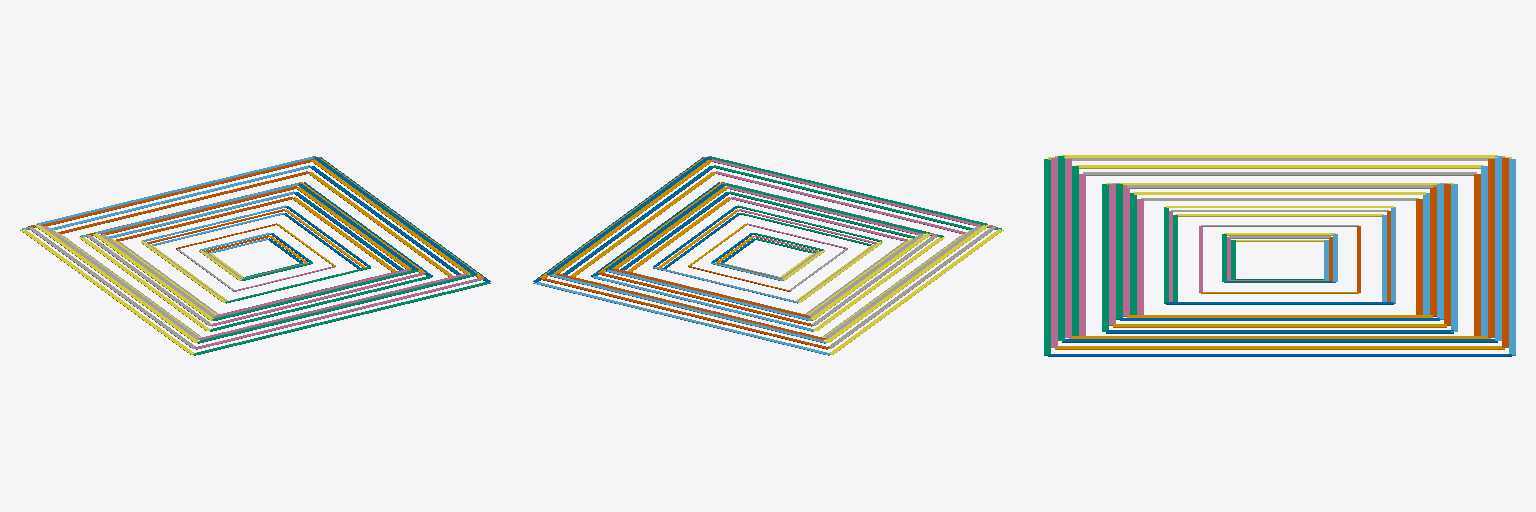
--- What the picture shows (computed from the rendered views, not written in the file) ---
The picture shows the robot from 3 angles, left to right: view 1: azimuth 30°, elevation 25°; view 2: azimuth 150°, elevation 25°; view 3: azimuth 270°, elevation 25°; orthographic projection.
Robot: plane — 77 links, 76 joints (76 fixed); root link planeLink; default pose: every joint at zero.
Visible links, largest first — view 1: box_stair_descend3_bottom, box_stair_descend2_bottom, box_stair_descend1_bottom, box_stair_descend3_left, box_stair6_top, box_stair_descend2_left, box_stair_descend1_left, box_stair5_top, box_stair6_right, box_stair4_top, box_stair5_right, box_stair_descend1_right (+13 smaller); view 2: box_stair_descend3_top, box_stair_descend2_top, box_stair_descend1_top, box_stair_descend3_left, box_stair6_bottom, box_stair_descend2_left, box_stair_descend1_left, box_stair5_bottom, box_stair6_right, box_stair4_bottom, box_stair5_right, box_stair_descend1_right (+13 smaller); view 3: box_stair_descend2_right, box_stair_descend1_right, box_stair5_left, box_stair4_left, box_stair_descend3_right, box_down3_right, box_stair_descend3_top, box_stair_descend3_bottom, box_down2_right, box_stair_descend2_top, box_stair_descend2_bottom, box_stair_descend1_left (+28 smaller).
Link boxes in pixels (box(x1,y1,x2,y2)): box_stair_descend3_bottom: box(193, 282, 490, 355); box_stair_descend2_bottom: box(194, 278, 483, 349); box_stair_descend1_bottom: box(197, 274, 476, 343); box_stair_descend3_left: box(20, 229, 194, 354); box_stair6_top: box(43, 159, 311, 225); box_stair_descend2_left: box(28, 227, 195, 348); box_stair_descend1_left: box(34, 225, 198, 342); box_stair5_top: box(51, 165, 311, 229); box_stair6_right: box(311, 160, 470, 273); box_stair4_top: box(58, 171, 309, 233); box_stair5_right: box(309, 166, 460, 274); box_stair_descend1_right: box(313, 157, 476, 274); box_stair_descend3_top: box(533, 282, 830, 355); box_stair_descend2_top: box(540, 278, 829, 349); box_stair_descend1_top: box(547, 274, 826, 343); box_stair_descend3_left: box(830, 229, 1003, 354); box_stair6_bottom: box(712, 159, 980, 225); box_stair_descend2_left: box(828, 227, 995, 348); box_stair_descend1_left: box(825, 225, 989, 342); box_stair5_bottom: box(713, 165, 972, 229); box_stair6_right: box(553, 160, 712, 273); box_stair4_bottom: box(714, 171, 965, 233); box_stair5_right: box(563, 166, 713, 274); box_stair_descend1_right: box(547, 157, 710, 274); box_stair_descend2_right: box(1055, 346, 1504, 349); box_stair_descend1_right: box(1062, 339, 1497, 342); box_stair5_left: box(1076, 165, 1483, 168); box_stair4_left: box(1083, 172, 1476, 175); box_stair_descend3_right: box(1048, 354, 1511, 356); box_down3_right: box(1106, 330, 1453, 333); box_stair_descend3_top: box(1509, 159, 1515, 355); box_stair_descend3_bottom: box(1044, 159, 1050, 355); box_down2_right: box(1113, 324, 1446, 327); box_stair_descend2_top: box(1502, 158, 1508, 347); box_stair_descend2_bottom: box(1051, 158, 1057, 347); box_stair_descend1_left: box(1062, 155, 1497, 157).
Bounding box of the posed robot: 20.3 × 20.3 × 0.58 m (x, y, z).
Meshes: 1 distinct files referenced, 0 mesh visuals loaded (none loaded); not drawn: 1 (reference not matched to a file when rendering).

The robot description file, URDF, robot "plane":
<?xml version="1.0" ?>
<robot name="plane">

  <!-- Base plane -->
  <link name="planeLink">
  <contact>
      <lateral_friction value="0.01"/>
  </contact>
    <inertial>
      <origin rpy="0 0 0" xyz="0 0 -0.1"/>
       <mass value="1.0"/>
       <inertia ixx="1.0" ixy="0" ixz="0" iyy="1.0" iyz="0" izz="1.0"/>
    </inertial>
    <visual>
      <origin rpy="0 0 0" xyz="0 0 -0.1"/>
      <geometry>
				<mesh filename="plane100_light.obj" scale="1 1 1"/>
      </geometry>
       <material name="white">
        <color rgba="1 1 1 1"/>
      </material>
    </visual>
    <collision>
      <origin rpy="0 0 0" xyz="0 0 -5"/>
      <geometry>
	 	<box size="200 200 10"/>
      </geometry>
    </collision>
  </link>
  <!-- Inner Rectangle (2m) -->
  <link name="box_inner1_top">
    <visual><origin xyz="0 2.0 0.035"/><geometry><box size="4.0 0.2 0.03"/></geometry></visual>
    <collision><origin xyz="0 2.0 0.035"/><geometry><box size="4.0 0.2 0.03"/></geometry></collision>
  </link>
  <joint name="joint_inner1_top" type="fixed"><parent link="planeLink"/><child link="box_inner1_top"/><origin xyz="0 0 0"/></joint>

  <link name="box_inner1_bottom">
    <visual><origin xyz="0 -2.0 0.035"/><geometry><box size="4.0 0.2 0.03"/></geometry></visual>
    <collision><origin xyz="0 -2.0 0.035"/><geometry><box size="4.0 0.2 0.03"/></geometry></collision>
  </link>
  <joint name="joint_inner1_bottom" type="fixed"><parent link="planeLink"/><child link="box_inner1_bottom"/><origin xyz="0 0 0"/></joint>

  <link name="box_inner1_left">
    <visual><origin xyz="-2.0 0 0.035"/><geometry><box size="0.2 4.0 0.03"/></geometry></visual>
    <collision><origin xyz="-2.0 0 0.035"/><geometry><box size="0.2 4.0 0.03"/></geometry></collision>
  </link>
  <joint name="joint_inner1_left" type="fixed"><parent link="planeLink"/><child link="box_inner1_left"/><origin xyz="0 0 0"/></joint>

  <link name="box_inner1_right">
    <visual><origin xyz="2.0 0 0.035"/><geometry><box size="0.2 4.0 0.03"/></geometry></visual>
    <collision><origin xyz="2.0 0 0.035"/><geometry><box size="0.2 4.0 0.03"/></geometry></collision>
  </link>
  <joint name="joint_inner1_right" type="fixed"><parent link="planeLink"/><child link="box_inner1_right"/><origin xyz="0 0 0"/></joint>



  <link name="box_inner2_top">
    <visual><origin xyz="0 2.2 0.085"/><geometry><box size="4.4 0.20 0.03"/></geometry></visual>
    <collision><origin xyz="0 2.2 0.03"/><geometry><box size="4.4 0.20 0.03"/></geometry></collision>
  </link>
  <joint name="joint_inner2_top" type="fixed"><parent link="planeLink"/><child link="box_inner2_top"/><origin xyz="0 0 0"/></joint>

  <link name="box_inner2_bottom">
    <visual><origin xyz="0 -2.2 0.085"/><geometry><box size="4.4 0.20 0.03"/></geometry></visual>
    <collision><origin xyz="0 -2.2 0.085"/><geometry><box size="4.4 0.20 0.03"/></geometry></collision>
  </link>
  <joint name="joint_inner2_bottom" type="fixed"><parent link="planeLink"/><child link="box_inner2_bottom"/><origin xyz="0 0 0"/></joint>

  <link name="box_inner2_left">
    <visual><origin xyz="-2.2 0 0.085"/><geometry><box size="0.20 4.4 0.03"/></geometry></visual>
    <collision><origin xyz="-2.2 0 0.085"/><geometry><box size="0.20 4.4 0.03"/></geometry></collision>
  </link>
  <joint name="joint_inner2_left" type="fixed"><parent link="planeLink"/><child link="box_inner2_left"/><origin xyz="0 0 0"/></joint>

  <link name="box_inner2_right">
    <visual><origin xyz="2.2 0 0.085"/><geometry><box size="0.20 4.4 0.03"/></geometry></visual>
    <collision><origin xyz="2.2 0 0.085"/><geometry><box size="0.20 4.4 0.03"/></geometry></collision>
  </link>
  <joint name="joint_inner2_right" type="fixed"><parent link="planeLink"/><child link="box_inner2_right"/><origin xyz="0 0 0"/></joint>



  <link name="box_inner3_top">
    <visual><origin xyz="0 2.4 0.135"/><geometry><box size="4.8 0.20 0.03"/></geometry></visual>
    <collision><origin xyz="0 2.4 0.135"/><geometry><box size="4.8 0.20 0.03"/></geometry></collision>
  </link>
  <joint name="joint_inner3_top" type="fixed"><parent link="planeLink"/><child link="box_inner3_top"/><origin xyz="0 0 0"/></joint>

  <link name="box_inner3_bottom">
    <visual><origin xyz="0 -2.4 0.135"/><geometry><box size="4.8 0.20 0.03"/></geometry></visual>
    <collision><origin xyz="0 -2.4 0.135"/><geometry><box size="4.8 0.20 0.03"/></geometry></collision>
  </link>
  <joint name="joint_inner3_bottom" type="fixed"><parent link="planeLink"/><child link="box_inner3_bottom"/><origin xyz="0 0 0"/></joint>

  <link name="box_inner3_left">
    <visual><origin xyz="-2.4 0 0.135"/><geometry><box size="0.20 4.8 0.03"/></geometry></visual>
    <collision><origin xyz="-2.4 0 0.135"/><geometry><box size="0.20 4.8 0.03"/></geometry></collision>
  </link>
  <joint name="joint_inner3_left" type="fixed"><parent link="planeLink"/><child link="box_inner3_left"/><origin xyz="0 0 0"/></joint>

  <link name="box_inner3_right">
    <visual><origin xyz="2.4 0 0.135"/><geometry><box size="0.20 4.8 0.03"/></geometry></visual>
    <collision><origin xyz="2.4 0 0.135"/><geometry><box size="0.20 4.8 0.03"/></geometry></collision>
  </link>
  <joint name="joint_inner3_right" type="fixed"><parent link="planeLink"/><child link="box_inner3_right"/><origin xyz="0 0 0"/></joint>



  <link name="box_top">
    <visual><origin xyz="0 3.4 0.085"/><geometry><box size="6.8 0.15 0.03"/></geometry></visual>
    <collision><origin xyz="0 3.4 0.085"/><geometry><box size="6.8 0.15 0.03"/></geometry></collision>
  </link>
  <joint name="joint_top" type="fixed"><parent link="planeLink"/><child link="box_top"/><origin xyz="0 0 0"/></joint>

  <link name="box_bottom">
    <visual><origin xyz="0 -3.4 0.085"/><geometry><box size="6.8 0.15 0.03"/></geometry></visual>
    <collision><origin xyz="0 -3.4 0.085"/><geometry><box size="6.8 0.15 0.03"/></geometry></collision>
  </link>
  <joint name="joint_bottom" type="fixed"><parent link="planeLink"/><child link="box_bottom"/><origin xyz="0 0 0"/></joint>

  <link name="box_left">
    <visual><origin xyz="-3.4 0 0.085"/><geometry><box size="0.15 6.8 0.03"/></geometry></visual>
    <collision><origin xyz="-3.4 0 0.085"/><geometry><box size="0.15 6.8 0.03"/></geometry></collision>
  </link>
  <joint name="joint_left" type="fixed"><parent link="planeLink"/><child link="box_left"/><origin xyz="0 0 0"/></joint>

  <link name="box_right">
    <visual><origin xyz="3.4 0 0.085"/><geometry><box size="0.15 6.8 0.03"/></geometry></visual>
    <collision><origin xyz="3.4 0 0.085"/><geometry><box size="0.15 6.8 0.03"/></geometry></collision>
  </link>
  <joint name="joint_right" type="fixed"><parent link="planeLink"/><child link="box_right"/><origin xyz="0 0 0"/></joint>

  <!-- Outer Rectangle (4m, 1m away from inner) -->
  <!-- These are 10cm tall, so z = 0.05 and size.z = 0.10 -->

  <link name="box_outer1_top">
    <visual><origin xyz="0 4.5 0.085"/><geometry><box size="9.0 0.2 0.03"/></geometry></visual>
    <collision><origin xyz="0 4.5 0.085"/><geometry><box size="9.0 0.2 0.03"/></geometry></collision>
  </link>
  <joint name="joint_outer1_top" type="fixed"><parent link="planeLink"/><child link="box_outer1_top"/><origin xyz="0 0 0"/></joint>

  <link name="box_outer1_bottom">
    <visual><origin xyz="0 -4.5 0.085"/><geometry><box size="9.0 0.2 0.03"/></geometry></visual>
    <collision><origin xyz="0 -4.5 0.085"/><geometry><box size="9.0 0.2 0.03"/></geometry></collision>
  </link>
  <joint name="joint_outer1_bottom" type="fixed"><parent link="planeLink"/><child link="box_outer1_bottom"/><origin xyz="0 0 0"/></joint>

  <link name="box_outer1_left">
    <visual><origin xyz="-4.5 0 0.085"/><geometry><box size="0.2 9.0 0.03"/></geometry></visual>
    <collision><origin xyz="-4.5 0 0.085"/><geometry><box size="0.2 9.0 0.03"/></geometry></collision>
  </link>
  <joint name="joint_outer1_left" type="fixed"><parent link="planeLink"/><child link="box_outer1_left"/><origin xyz="0 0 0"/></joint>

  <link name="box_outer1_right">
    <visual><origin xyz="4.5 0 0.085"/><geometry><box size="0.2 9.0 0.03"/></geometry></visual>
    <collision><origin xyz="4.5 0 0.085"/><geometry><box size="0.2 9.0 0.03"/></geometry></collision>
  </link>
  <joint name="joint_outer1_right" type="fixed"><parent link="planeLink"/><child link="box_outer1_right"/><origin xyz="0 0 0"/></joint>



  <link name="box_outer2_top">
    <visual><origin xyz="0 4.7 0.185"/><geometry><box size="9.4 0.2 0.03"/></geometry></visual>
    <collision><origin xyz="0 4.7 0.185"/><geometry><box size="9.4 0.2 0.03"/></geometry></collision>
  </link>
  <joint name="joint_outer2_top" type="fixed"><parent link="planeLink"/><child link="box_outer2_top"/><origin xyz="0 0 0"/></joint>

  <link name="box_outer2_bottom">
    <visual><origin xyz="0 -4.7 0.185"/><geometry><box size="9.4 0.2 0.03"/></geometry></visual>
    <collision><origin xyz="0 -4.7 0.185"/><geometry><box size="9.4 0.2 0.03"/></geometry></collision>
  </link>
  <joint name="joint_outer2_bottom" type="fixed"><parent link="planeLink"/><child link="box_outer2_bottom"/><origin xyz="0 0 0"/></joint>

  <link name="box_outer2_left">
    <visual><origin xyz="-4.7 0 0.185"/><geometry><box size="0.2 9.4 0.03"/></geometry></visual>
    <collision><origin xyz="-4.7 0 0.185"/><geometry><box size="0.2 9.4 0.03"/></geometry></collision>
  </link>
  <joint name="joint_outer2_left" type="fixed"><parent link="planeLink"/><child link="box_outer2_left"/><origin xyz="0 0 0"/></joint>

  <link name="box_outer2_right">
    <visual><origin xyz="4.7 0 0.185"/><geometry><box size="0.2 9.4 0.03"/></geometry></visual>
    <collision><origin xyz="4.7 0 0.185"/><geometry><box size="0.2 9.4 0.03"/></geometry></collision>
  </link>
  <joint name="joint_outer2_right" type="fixed"><parent link="planeLink"/><child link="box_outer2_right"/><origin xyz="0 0 0"/></joint>


  <link name="box_outer3_top">
    <visual><origin xyz="0 4.9 0.285"/><geometry><box size="9.8 0.2 0.03"/></geometry></visual>
    <collision><origin xyz="0 4.9 0.285"/><geometry><box size="9.8 0.2 0.03"/></geometry></collision>
  </link>
  <joint name="joint_outer3_top" type="fixed"><parent link="planeLink"/><child link="box_outer3_top"/><origin xyz="0 0 0"/></joint>

  <link name="box_outer3_bottom">
    <visual><origin xyz="0 -4.9 0.285"/><geometry><box size="9.8 0.2 0.03"/></geometry></visual>
    <collision><origin xyz="0 -4.9 0.285"/><geometry><box size="9.8 0.2 0.03"/></geometry></collision>
  </link>
  <joint name="joint_outer3_bottom" type="fixed"><parent link="planeLink"/><child link="box_outer3_bottom"/><origin xyz="0 0 0"/></joint>

  <link name="box_outer3_left">
    <visual><origin xyz="-4.9 0 0.285"/><geometry><box size="0.2 9.8 0.03"/></geometry></visual>
    <collision><origin xyz="-4.9 0 0.285"/><geometry><box size="0.2 9.8 0.03"/></geometry></collision>
  </link>
  <joint name="joint_outer3_left" type="fixed"><parent link="planeLink"/><child link="box_outer3_left"/><origin xyz="0 0 0"/></joint>

  <link name="box_outer3_right">
    <visual><origin xyz="4.9 0 0.285"/><geometry><box size="0.2 9.8 0.03"/></geometry></visual>
    <collision><origin xyz="4.9 0 0.285"/><geometry><box size="0.2 9.8 0.03"/></geometry></collision>
  </link>
  <joint name="joint_outer3_right" type="fixed"><parent link="planeLink"/><child link="box_outer3_right"/><origin xyz="0 0 0"/></joint>

 
  <link name="box_stair1_top">
    <visual><origin xyz="0 6.0 0.135"/><geometry><box size="12.0 0.3 0.03"/></geometry></visual>
    <collision><origin xyz="0 6.0 0.135"/><geometry><box size="12.0 0.3 0.03"/></geometry></collision>
  </link>
  <joint name="box_stair1_top" type="fixed"><parent link="planeLink"/><child link="box_stair1_top"/><origin xyz="0 0 0"/></joint>

  <link name="box_stair1_bottom">
    <visual><origin xyz="0 -6.0 0.135"/><geometry><box size="12.0 0.3 0.03"/></geometry></visual>
    <collision><origin xyz="0 -6.0 0.135"/><geometry><box size="12.0 0.3 0.03"/></geometry></collision>
  </link>
  <joint name="box_stair1_bottom" type="fixed"><parent link="planeLink"/><child link="box_stair1_bottom"/><origin xyz="0 0 0"/></joint>

  <link name="box_stair1_left">
    <visual><origin xyz="-6.0 0 0.135"/><geometry><box size="0.3 12.0 0.03"/></geometry></visual>
    <collision><origin xyz="-6.0 0 0.135"/><geometry><box size="0.3 12.0 0.03"/></geometry></collision>
  </link>
  <joint name="box_stair1_left" type="fixed"><parent link="planeLink"/><child link="box_stair1_left"/><origin xyz="0 0 0"/></joint>

  <link name="box_stair1_right">
    <visual><origin xyz="6.0 0 0.135"/><geometry><box size="0.3 12.0 0.03"/></geometry></visual>
    <collision><origin xyz="6.0 0 0.135"/><geometry><box size="0.3 12.0 0.03"/></geometry></collision>
  </link>
  <joint name="box_stair1_right" type="fixed"><parent link="planeLink"/><child link="box_stair1_right"/><origin xyz="0 0 0"/></joint>


  <link name="box_stair2_top">
    <visual><origin xyz="0 6.3 0.285"/><geometry><box size="12.6 0.3 0.03"/></geometry></visual>
    <collision><origin xyz="0 6.3 0.285"/><geometry><box size="12.6 0.3 0.03"/></geometry></collision>
  </link>
  <joint name="box_stair2_top" type="fixed"><parent link="planeLink"/><child link="box_stair2_top"/><origin xyz="0 0 0"/></joint>

  <link name="box_stair2_bottom">
    <visual><origin xyz="0 -6.3 0.285"/><geometry><box size="12.6 0.3 0.03"/></geometry></visual>
    <collision><origin xyz="0 -6.3 0.285"/><geometry><box size="12.6 0.3 0.03"/></geometry></collision>
  </link>
  <joint name="box_stair2_bottom" type="fixed"><parent link="planeLink"/><child link="box_stair2_bottom"/><origin xyz="0 0 0"/></joint>

  <link name="box_stair2_left">
    <visual><origin xyz="-6.3 0 0.285"/><geometry><box size="0.3 12.6 0.03"/></geometry></visual>
    <collision><origin xyz="-6.3 0 0.285"/><geometry><box size="0.3 12.6 0.03"/></geometry></collision>
  </link>
  <joint name="box_stair2_left" type="fixed"><parent link="planeLink"/><child link="box_stair2_left"/><origin xyz="0 0 0"/></joint>

  <link name="box_stair2_right">
    <visual><origin xyz="6.3 0 0.285"/><geometry><box size="0.3 12.6 0.03"/></geometry></visual>
    <collision><origin xyz="6.3 0 0.285"/><geometry><box size="0.3 12.6 0.03"/></geometry></collision>
  </link>
  <joint name="box_stair2_right" type="fixed"><parent link="planeLink"/><child link="box_stair2_right"/><origin xyz="0 0 0"/></joint>


  <link name="box_stair3_top">
    <visual><origin xyz="0 6.6 0.435"/><geometry><box size="13.2 0.3 0.03"/></geometry></visual>
    <collision><origin xyz="0 6.6 0.435"/><geometry><box size="13.2 0.3 0.03"/></geometry></collision>
  </link>
  <joint name="box_stair3_top" type="fixed"><parent link="planeLink"/><child link="box_stair3_top"/><origin xyz="0 0 0"/></joint>

  <link name="box_stair3_bottom">
    <visual><origin xyz="0 -6.6 0.435"/><geometry><box size="13.2 0.3 0.03"/></geometry></visual>
    <collision><origin xyz="0 -6.6 0.435"/><geometry><box size="13.2 0.3 0.03"/></geometry></collision>
  </link>
  <joint name="box_stair3_bottom" type="fixed"><parent link="planeLink"/><child link="box_stair3_bottom"/><origin xyz="0 0 0"/></joint>

  <link name="box_stair3_left">
    <visual><origin xyz="-6.6 0 0.435"/><geometry><box size="0.3 13.2 0.03"/></geometry></visual>
    <collision><origin xyz="-6.6 0 0.435"/><geometry><box size="0.3 13.2 0.03"/></geometry></collision>
  </link>
  <joint name="box_stair3_left" type="fixed"><parent link="planeLink"/><child link="box_stair3_left"/><origin xyz="0 0 0"/></joint>

  <link name="box_stair3_right">
    <visual><origin xyz="6.6 0 0.435"/><geometry><box size="0.3 13.2 0.03"/></geometry></visual>
    <collision><origin xyz="6.6 0 0.435"/><geometry><box size="0.3 13.2 0.03"/></geometry></collision>
  </link>
  <joint name="box_stair3_right" type="fixed"><parent link="planeLink"/><child link="box_stair3_right"/><origin xyz="0 0 0"/></joint>





  <link name="box_down1_top">
    <visual><origin xyz="0 6.9 0.435"/><geometry><box size="13.8 0.3 0.03"/></geometry></visual>
    <collision><origin xyz="0 6.9 0.435"/><geometry><box size="13.8 0.3 0.03"/></geometry></collision>
  </link>
  <joint name="box_down1_top" type="fixed"><parent link="planeLink"/><child link="box_down1_top"/><origin xyz="0 0 0"/></joint>

  <link name="box_down1_bottom">
    <visual><origin xyz="0 -6.9 0.435"/><geometry><box size="13.8 0.3 0.03"/></geometry></visual>
    <collision><origin xyz="0 -6.9 0.435"/><geometry><box size="13.8 0.3 0.03"/></geometry></collision>
  </link>
  <joint name="box_down1_bottom" type="fixed"><parent link="planeLink"/><child link="box_down1_bottom"/><origin xyz="0 0 0"/></joint>

  <link name="box_down1_left">
    <visual><origin xyz="-6.9 0 0.435"/><geometry><box size="0.3 13.8 0.03"/></geometry></visual>
    <collision><origin xyz="-6.9 0 0.435"/><geometry><box size="0.3 13.8 0.03"/></geometry></collision>
  </link>
  <joint name="box_down1_left" type="fixed"><parent link="planeLink"/><child link="box_down1_left"/><origin xyz="0 0 0"/></joint>

  <link name="box_down1_right">
    <visual><origin xyz="6.9 0 0.435"/><geometry><box size="0.3 13.8 0.03"/></geometry></visual>
    <collision><origin xyz="6.9 0 0.435"/><geometry><box size="0.3 13.8 0.03"/></geometry></collision>
  </link>
  <joint name="box_down1_right" type="fixed"><parent link="planeLink"/><child link="box_down1_right"/><origin xyz="0 0 0"/></joint>


  <link name="box_down2_top">
    <visual><origin xyz="0 7.2 0.285"/><geometry><box size="14.4 0.3 0.03"/></geometry></visual>
    <collision><origin xyz="0 7.2 0.285"/><geometry><box size="14.4 0.3 0.03"/></geometry></collision>
  </link>
  <joint name="box_down2_top" type="fixed"><parent link="planeLink"/><child link="box_down2_top"/><origin xyz="0 0 0"/></joint>

  <link name="box_down2_bottom">
    <visual><origin xyz="0 -7.2 0.285"/><geometry><box size="14.4 0.3 0.03"/></geometry></visual>
    <collision><origin xyz="0 -7.2 0.285"/><geometry><box size="14.4 0.3 0.03"/></geometry></collision>
  </link>
  <joint name="box_down2_bottom" type="fixed"><parent link="planeLink"/><child link="box_down2_bottom"/><origin xyz="0 0 0"/></joint>

  <link name="box_down2_left">
    <visual><origin xyz="-7.2 0 0.285"/><geometry><box size="0.3 14.4 0.03"/></geometry></visual>
    <collision><origin xyz="-7.2 0 0.285"/><geometry><box size="0.3 14.4 0.03"/></geometry></collision>
  </link>
  <joint name="box_down2_left" type="fixed"><parent link="planeLink"/><child link="box_down2_left"/><origin xyz="0 0 0"/></joint>

  <link name="box_down2_right">
    <visual><origin xyz="7.2 0 0.285"/><geometry><box size="0.3 14.4 0.03"/></geometry></visual>
    <collision><origin xyz="7.2 0 0.285"/><geometry><box size="0.3 14.4 0.03"/></geometry></collision>
  </link>
  <joint name="box_down2_right" type="fixed"><parent link="planeLink"/><child link="box_down2_right"/><origin xyz="0 0 0"/></joint>


  <link name="box_down3_top">
    <visual><origin xyz="0 7.5 0.135"/><geometry><box size="15.0 0.3 0.03"/></geometry></visual>
    <collision><origin xyz="0 7.5 0.135"/><geometry><box size="15.0 0.3 0.03"/></geometry></collision>
  </link>
  <joint name="box_down3_top" type="fixed"><parent link="planeLink"/><child link="box_down3_top"/><origin xyz="0 0 0"/></joint>

  <link name="box_down3_bottom">
    <visual><origin xyz="0 -7.5 0.135"/><geometry><box size="15.0 0.3 0.03"/></geometry></visual>
    <collision><origin xyz="0 -7.5 0.135"/><geometry><box size="15.0 0.3 0.03"/></geometry></collision>
  </link>
  <joint name="box_down3_bottom" type="fixed"><parent link="planeLink"/><child link="box_down3_bottom"/><origin xyz="0 0 0"/></joint>

  <link name="box_down3_left">
    <visual><origin xyz="-7.5 0 0.135"/><geometry><box size="0.3 15.0 0.03"/></geometry></visual>
    <collision><origin xyz="-7.5 0 0.135"/><geometry><box size="0.3 15.0 0.03"/></geometry></collision>
  </link>
  <joint name="box_down3_left" type="fixed"><parent link="planeLink"/><child link="box_down3_left"/><origin xyz="0 0 0"/></joint>

  <link name="box_down3_right">
    <visual><origin xyz="7.5 0 0.135"/><geometry><box size="0.3 15.0 0.03"/></geometry></visual>
    <collision><origin xyz="7.5 0 0.135"/><geometry><box size="0.3 15.0 0.03"/></geometry></collision>
  </link>
  <joint name="box_down3_right" type="fixed"><parent link="planeLink"/><child link="box_down3_right"/><origin xyz="0 0 0"/></joint>





  <!-- 20cm step stairs set, 1m away in y (+10.0) -->

    <!-- Step 1 (z=0.10, height=0.20) -->
  <!-- OUTER (1m offset) 20cm step stairs set -->

  <!-- Step 1 (z=0.10, height=0.20) -->
  <link name="box_stair4_top">
    <visual><origin xyz="0 8.5 0.185"/><geometry><box size="17.0 0.3 0.03"/></geometry></visual>
    <collision><origin xyz="0 8.5 0.185"/><geometry><box size="17.0 0.3 0.03"/></geometry></collision>
  </link>
  <joint name="box_stair4_top" type="fixed"><parent link="planeLink"/><child link="box_stair4_top"/><origin xyz="0 0 0"/></joint>

  <link name="box_stair4_bottom">
    <visual><origin xyz="0 -8.5 0.185"/><geometry><box size="17.0 0.3 0.03"/></geometry></visual>
    <collision><origin xyz="0 -8.5 0.185"/><geometry><box size="17.0 0.3 0.03"/></geometry></collision>
  </link>
  <joint name="box_stair4_bottom" type="fixed"><parent link="planeLink"/><child link="box_stair4_bottom"/><origin xyz="0 0 0"/></joint>

  <link name="box_stair4_left">
    <visual><origin xyz="-8.5 0 0.185"/><geometry><box size="0.3 17.0 0.03"/></geometry></visual>
    <collision><origin xyz="-8.5 0 0.185"/><geometry><box size="0.3 17.0 0.03"/></geometry></collision>
  </link>
  <joint name="box_stair4_left" type="fixed"><parent link="planeLink"/><child link="box_stair4_left"/><origin xyz="0 0 0"/></joint>

  <link name="box_stair4_right">
    <visual><origin xyz="8.5 0 0.185"/><geometry><box size="0.3 17.0 0.03"/></geometry></visual>
    <collision><origin xyz="8.5 0 0.185"/><geometry><box size="0.3 17.0 0.03"/></geometry></collision>
  </link>
  <joint name="box_stair4_right" type="fixed"><parent link="planeLink"/><child link="box_stair4_right"/><origin xyz="0 0 0"/></joint>

  <!-- Step 2 (z=0.30, height=0.03) -->
  <link name="box_stair5_top">
    <visual><origin xyz="0 8.8 0.385"/><geometry><box size="17.6 0.3 0.03"/></geometry></visual>
    <collision><origin xyz="0 8.8 0.385"/><geometry><box size="17.6 0.3 0.03"/></geometry></collision>
  </link>
  <joint name="box_stair5_top" type="fixed"><parent link="planeLink"/><child link="box_stair5_top"/><origin xyz="0 0 0"/></joint>

  <link name="box_stair5_bottom">
    <visual><origin xyz="0 -8.8 0.385"/><geometry><box size="17.6 0.3 0.03"/></geometry></visual>
    <collision><origin xyz="0 -8.8 0.385"/><geometry><box size="17.6 0.3 0.03"/></geometry></collision>
  </link>
  <joint name="box_stair5_bottom" type="fixed"><parent link="planeLink"/><child link="box_stair5_bottom"/><origin xyz="0 0 0"/></joint>

  <link name="box_stair5_left">
    <visual><origin xyz="-8.8 0 0.385"/><geometry><box size="0.3 17.6 0.03"/></geometry></visual>
    <collision><origin xyz="-8.8 0 0.385"/><geometry><box size="0.3 17.6 0.03"/></geometry></collision>
  </link>
  <joint name="box_stair5_left" type="fixed"><parent link="planeLink"/><child link="box_stair5_left"/><origin xyz="0 0 0"/></joint>

  <link name="box_stair5_right">
    <visual><origin xyz="8.8 0 0.385"/><geometry><box size="0.3 17.6 0.03"/></geometry></visual>
    <collision><origin xyz="8.8 0 0.385"/><geometry><box size="0.3 17.6 0.03"/></geometry></collision>
  </link>
  <joint name="box_stair5_right" type="fixed"><parent link="planeLink"/><child link="box_stair5_right"/><origin xyz="0 0 0"/></joint>

  <!-- Step 3 (z=0.50, height=0.03) -->
  <link name="box_stair6_top">
    <visual><origin xyz="0 9.1 0.585"/><geometry><box size="18.2 0.3 0.03"/></geometry></visual>
    <collision><origin xyz="0 9.1 0.585"/><geometry><box size="18.2 0.3 0.03"/></geometry></collision>
  </link>
  <joint name="box_stair6_top" type="fixed"><parent link="planeLink"/><child link="box_stair6_top"/><origin xyz="0 0 0"/></joint>

  <link name="box_stair6_bottom">
    <visual><origin xyz="0 -9.1 0.585"/><geometry><box size="18.2 0.3 0.03"/></geometry></visual>
    <collision><origin xyz="0 -9.1 0.585"/><geometry><box size="18.2 0.3 0.03"/></geometry></collision>
  </link>
  <joint name="box_stair6_bottom" type="fixed"><parent link="planeLink"/><child link="box_stair6_bottom"/><origin xyz="0 0 0"/></joint>

  <link name="box_stair6_left">
    <visual><origin xyz="-9.1 0 0.585"/><geometry><box size="0.3 18.2 0.03"/></geometry></visual>
    <collision><origin xyz="-9.1 0 0.585"/><geometry><box size="0.3 18.2 0.03"/></geometry></collision>
  </link>
  <joint name="box_stair6_left" type="fixed"><parent link="planeLink"/><child link="box_stair6_left"/><origin xyz="0 0 0"/></joint>

  <link name="box_stair6_right">
    <visual><origin xyz="9.1 0 0.585"/><geometry><box size="0.3 18.2 0.03"/></geometry></visual>
    <collision><origin xyz="9.1 0 0.585"/><geometry><box size="0.3 18.2 0.03"/></geometry></collision>
  </link>
  <joint name="box_stair6_right" type="fixed"><parent link="planeLink"/><child link="box_stair6_right"/><origin xyz="0 0 0"/></joint>


  <!-- Highest frame (step 1, z=0.50) -->
  <link name="box_stair_descend1_top">
    <visual><origin xyz="0 9.4 0.585"/><geometry><box size="18.8 0.3 0.03"/></geometry></visual>
    <collision><origin xyz="0 9.4 0.585"/><geometry><box size="18.8 0.3 0.03"/></geometry></collision>
  </link>
  <joint name="box_stair_descend1_top" type="fixed"><parent link="planeLink"/><child link="box_stair_descend1_top"/><origin xyz="0 0 0"/></joint>

  <link name="box_stair_descend1_bottom">
    <visual><origin xyz="0 -9.4 0.585"/><geometry><box size="18.8 0.3 0.03"/></geometry></visual>
    <collision><origin xyz="0 -9.4 0.585"/><geometry><box size="18.8 0.3 0.03"/></geometry></collision>
  </link>
  <joint name="box_stair_descend1_bottom" type="fixed"><parent link="planeLink"/><child link="box_stair_descend1_bottom"/><origin xyz="0 0 0"/></joint>

  <link name="box_stair_descend1_left">
    <visual><origin xyz="-9.4 0 0.585"/><geometry><box size="0.3 18.8 0.03"/></geometry></visual>
    <collision><origin xyz="-9.4 0 0.585"/><geometry><box size="0.3 18.8 0.03"/></geometry></collision>
  </link>
  <joint name="box_stair_descend1_left" type="fixed"><parent link="planeLink"/><child link="box_stair_descend1_left"/><origin xyz="0 0 0"/></joint>

  <link name="box_stair_descend1_right">
    <visual><origin xyz="9.4 0 0.585"/><geometry><box size="0.3 18.8 0.03"/></geometry></visual>
    <collision><origin xyz="9.4 0 0.585"/><geometry><box size="0.3 18.8 0.03"/></geometry></collision>
  </link>
  <joint name="box_stair_descend1_right" type="fixed"><parent link="planeLink"/><child link="box_stair_descend1_right"/><origin xyz="0 0 0"/></joint>

  <!-- Middle frame (step 2, z=0.30) -->
  <link name="box_stair_descend2_top">
    <visual><origin xyz="0 9.7 0.385"/><geometry><box size="19.4 0.3 0.03"/></geometry></visual>
    <collision><origin xyz="0 9.7 0.385"/><geometry><box size="19.4 0.3 0.03"/></geometry></collision>
  </link>
  <joint name="box_stair_descend2_top" type="fixed"><parent link="planeLink"/><child link="box_stair_descend2_top"/><origin xyz="0 0 0"/></joint>

  <link name="box_stair_descend2_bottom">
    <visual><origin xyz="0 -9.7 0.385"/><geometry><box size="19.4 0.3 0.03"/></geometry></visual>
    <collision><origin xyz="0 -9.7 0.385"/><geometry><box size="19.4 0.3 0.03"/></geometry></collision>
  </link>
  <joint name="box_stair_descend2_bottom" type="fixed"><parent link="planeLink"/><child link="box_stair_descend2_bottom"/><origin xyz="0 0 0"/></joint>

  <link name="box_stair_descend2_left">
    <visual><origin xyz="-9.7 0 0.385"/><geometry><box size="0.3 19.4 0.03"/></geometry></visual>
    <collision><origin xyz="-9.7 0 0.385"/><geometry><box size="0.3 19.4 0.03"/></geometry></collision>
  </link>
  <joint name="box_stair_descend2_left" type="fixed"><parent link="planeLink"/><child link="box_stair_descend2_left"/><origin xyz="0 0 0"/></joint>

  <link name="box_stair_descend2_right">
    <visual><origin xyz="9.7 0 0.385"/><geometry><box size="0.3 19.4 0.03"/></geometry></visual>
    <collision><origin xyz="9.7 0 0.385"/><geometry><box size="0.3 19.4 0.03"/></geometry></collision>
  </link>
  <joint name="box_stair_descend2_right" type="fixed"><parent link="planeLink"/><child link="box_stair_descend2_right"/><origin xyz="0 0 0"/></joint>

  <!-- Lowest frame (step 3, z=0.185) -->
  <link name="box_stair_descend3_top">
    <visual><origin xyz="0 10.0 0.185"/><geometry><box size="20.0 0.3 0.03"/></geometry></visual>
    <collision><origin xyz="0 10.0 0.185"/><geometry><box size="20.0 0.3 0.03"/></geometry></collision>
  </link>
  <joint name="box_stair_descend3_top" type="fixed"><parent link="planeLink"/><child link="box_stair_descend3_top"/><origin xyz="0 0 0"/></joint>

  <link name="box_stair_descend3_bottom">
    <visual><origin xyz="0 -10.0 0.185"/><geometry><box size="20.0 0.3 0.03"/></geometry></visual>
    <collision><origin xyz="0 -10.0 0.185"/><geometry><box size="20.0 0.3 0.03"/></geometry></collision>
  </link>
  <joint name="box_stair_descend3_bottom" type="fixed"><parent link="planeLink"/><child link="box_stair_descend3_bottom"/><origin xyz="0 0 0"/></joint>

  <link name="box_stair_descend3_left">
    <visual><origin xyz="-10.0 0 0.185"/><geometry><box size="0.3 20.0 0.03"/></geometry></visual>
    <collision><origin xyz="-10.0 0 0.185"/><geometry><box size="0.3 20.0 0.03"/></geometry></collision>
  </link>
  <joint name="box_stair_descend3_left" type="fixed"><parent link="planeLink"/><child link="box_stair_descend3_left"/><origin xyz="0 0 0"/></joint>

  <link name="box_stair_descend3_right">
    <visual><origin xyz="10.0 0 0.185"/><geometry><box size="0.3 20.0 0.03"/></geometry></visual>
    <collision><origin xyz="10.0 0 0.185"/><geometry><box size="0.3 20.0 0.03"/></geometry></collision>
  </link>
  <joint name="box_stair_descend3_right" type="fixed"><parent link="planeLink"/><child link="box_stair_descend3_right"/><origin xyz="0 0 0"/></joint>




</robot>
